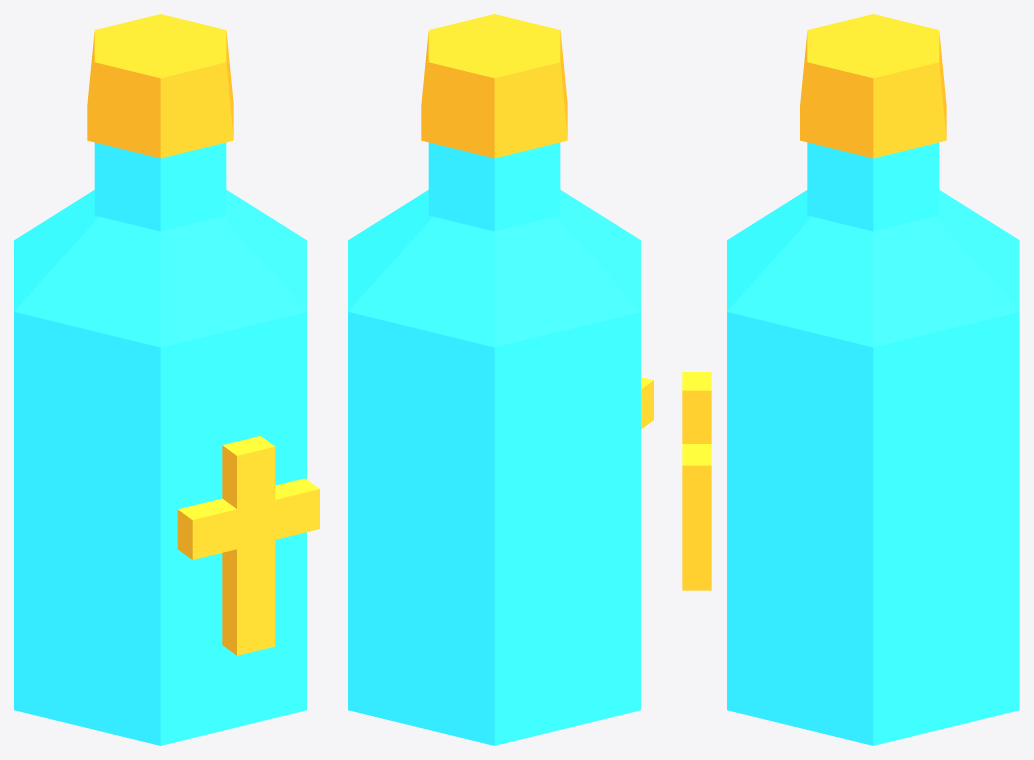
Rendered from greater_holy_water.glb.
The picture shows the model from 3 angles, left to right: view 1: azimuth 30°, elevation 25°; view 2: azimuth 150°, elevation 25°; view 3: azimuth 270°, elevation 25°; orthographic projection.
Parts seen in each view (by area): view 1: greater_holy_water; view 2: greater_holy_water; view 3: greater_holy_water.
Part boxes in pixels (<box>): greater_holy_water: <box>14,14,319,745</box>; greater_holy_water: <box>348,14,653,745</box>; greater_holy_water: <box>682,14,1019,745</box>.
Bounding box in the file's own units: 0.2875 × 0.5894 × 0.287.
